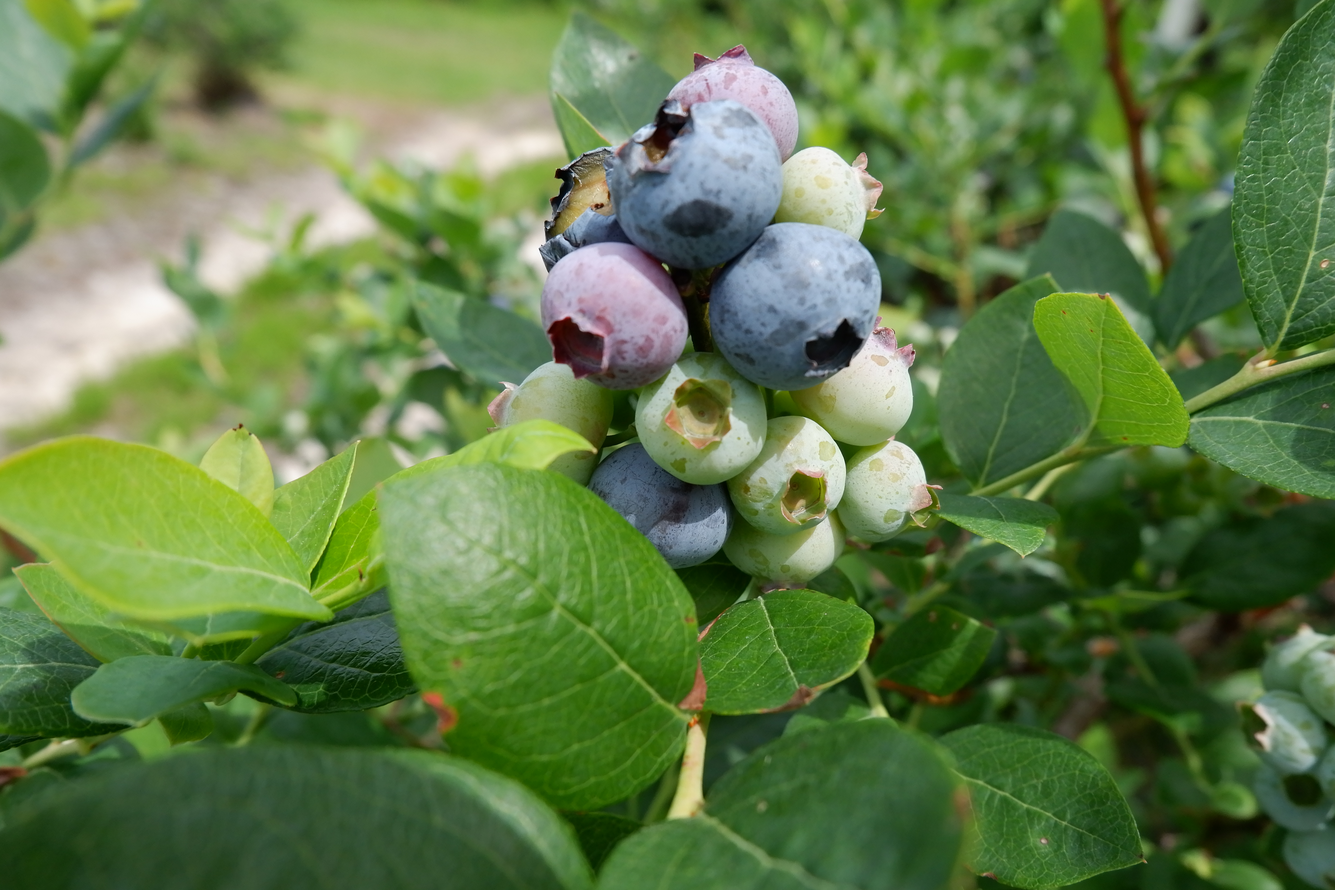Immature: (544, 245, 685, 385), (484, 361, 614, 487), (640, 355, 767, 482), (783, 330, 912, 442), (671, 49, 792, 155), (732, 419, 844, 533), (841, 443, 936, 540), (778, 150, 882, 238), (727, 513, 842, 585)
Mature: (616, 98, 781, 266), (712, 225, 879, 385), (593, 444, 731, 567), (540, 149, 627, 271)
